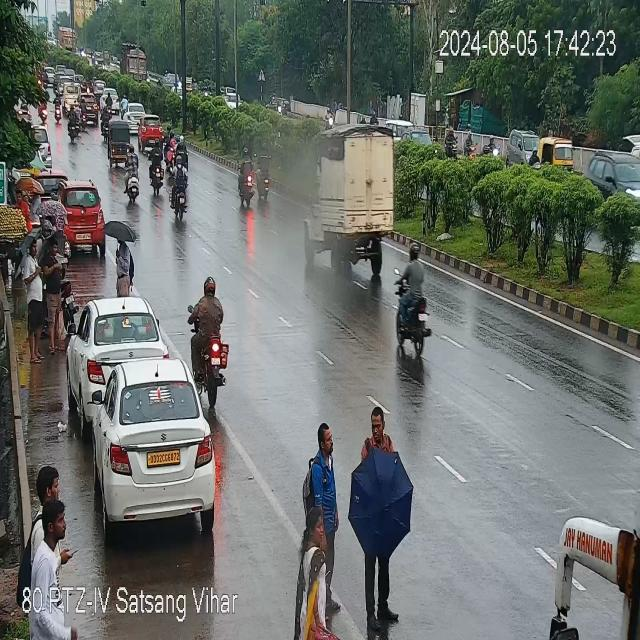2-wheelers: (189, 274, 230, 398), (396, 270, 439, 356), (236, 145, 255, 208), (147, 144, 168, 197), (124, 153, 144, 203), (170, 157, 186, 218), (258, 139, 269, 201), (163, 125, 174, 169), (446, 126, 459, 154), (67, 104, 76, 144), (466, 130, 478, 158), (176, 132, 188, 160), (101, 105, 109, 142), (529, 148, 541, 172), (486, 137, 498, 157), (39, 96, 47, 123), (55, 90, 61, 125), (105, 92, 113, 114), (75, 101, 80, 134), (121, 92, 127, 118), (324, 106, 333, 123), (368, 110, 378, 124), (82, 98, 85, 129), (277, 99, 282, 115)
auto: (540, 136, 574, 167), (109, 121, 130, 163)
bus: (541, 487, 636, 639)
car: (75, 362, 219, 532), (69, 298, 167, 402), (590, 149, 640, 209), (64, 183, 106, 247), (35, 122, 53, 168), (384, 117, 409, 147), (138, 118, 164, 146), (402, 129, 435, 149), (62, 83, 76, 112), (86, 94, 99, 122), (93, 78, 104, 94), (111, 90, 119, 112)
pedestrian: (367, 404, 400, 636), (304, 506, 335, 640), (27, 505, 75, 591), (304, 427, 337, 527), (23, 243, 49, 360), (47, 239, 63, 359), (33, 458, 67, 498), (115, 239, 130, 295), (28, 189, 45, 237), (18, 186, 28, 212), (34, 189, 41, 213)
truck: (316, 124, 413, 270)
